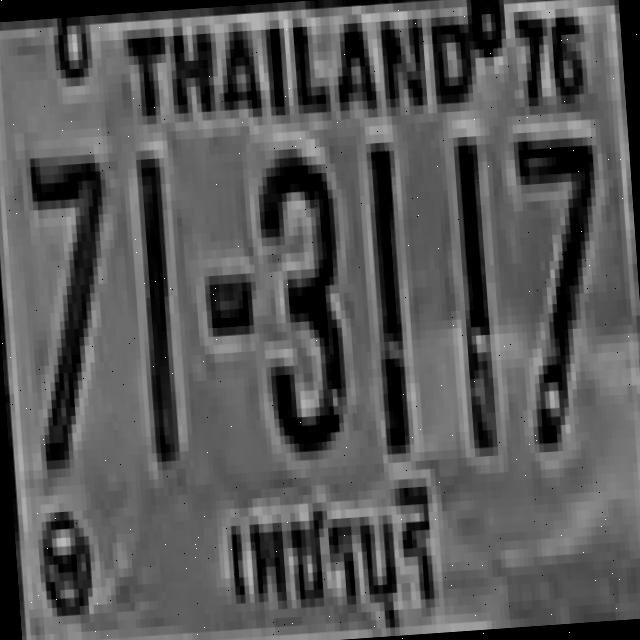1: (446, 132, 496, 452), (361, 137, 410, 450), (130, 145, 175, 457)
3: (250, 138, 344, 444)
7: (510, 128, 610, 444), (20, 145, 120, 461)
Phetchaburi: (213, 476, 448, 633)
